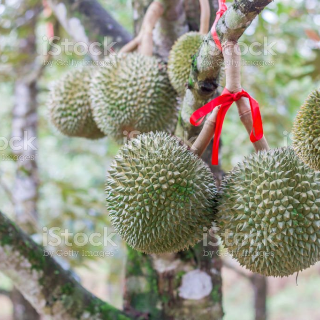sau_rieng: (104, 126, 221, 260), (217, 141, 317, 281)
